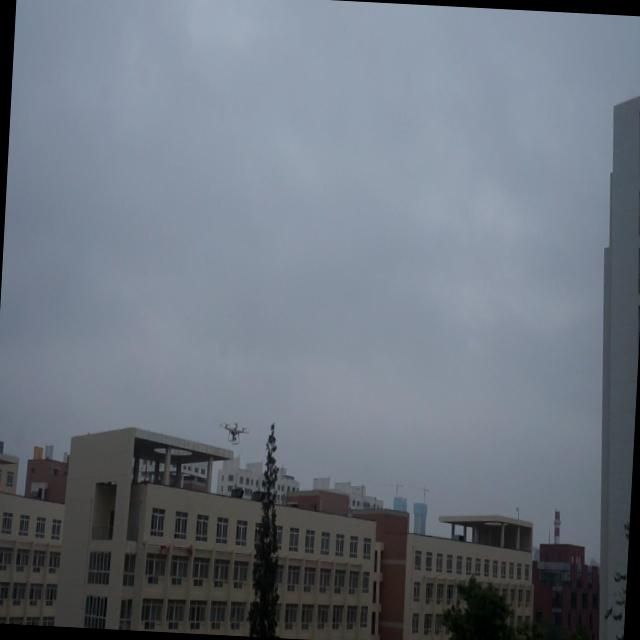drone: (217, 417, 252, 447)
